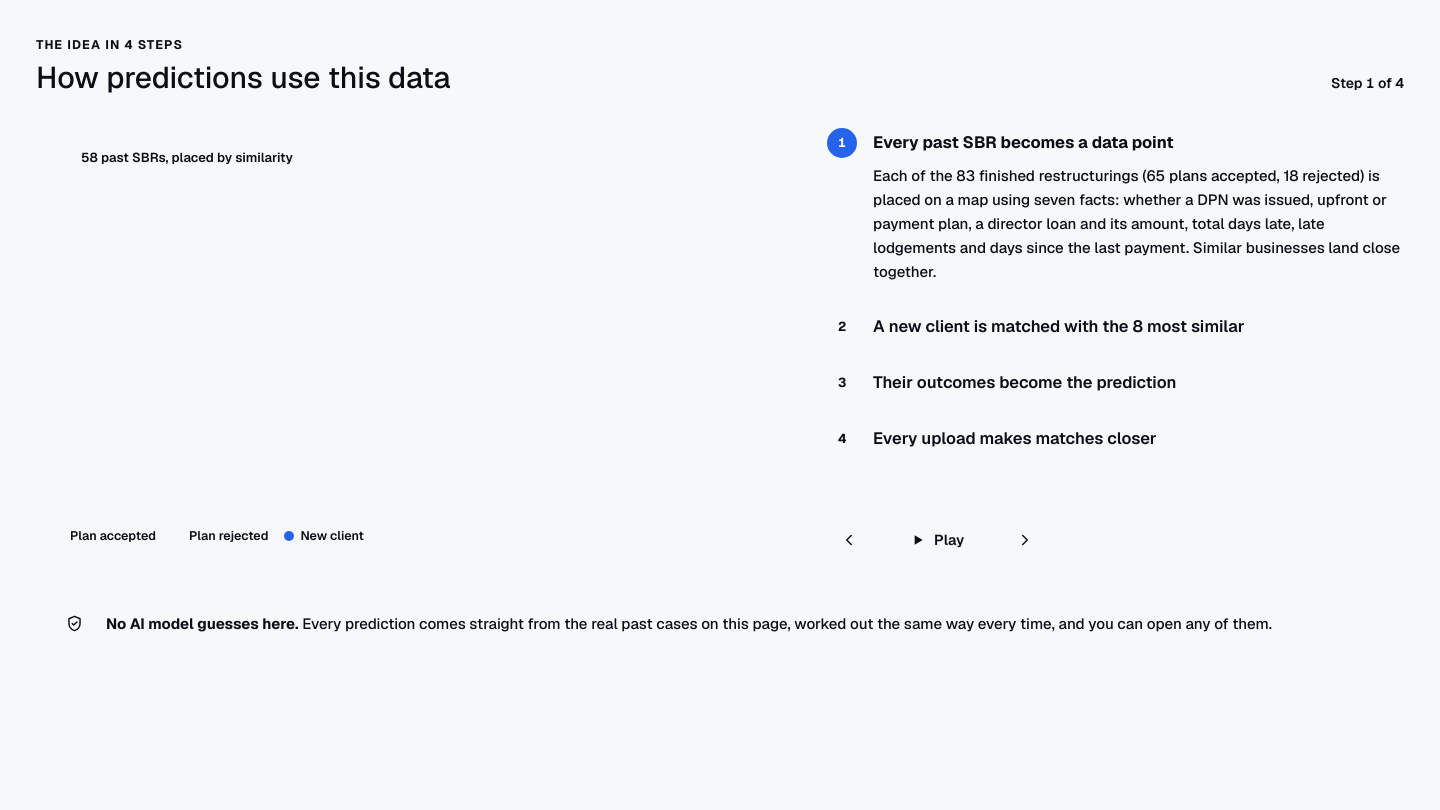
Scenario: HeroExplainer › walks through the steps with the real numbers and the real method
The width and height of the screenshot is (1440, 810).
expect the text "No AI model guesses here." is shown: met, box [106, 614, 298, 632]
expect the text "Each of the 83 finished restructurings (65 plans accepted, 18 rejected)" is shown: met, box [873, 166, 1400, 281]
Click the button named "Next step".
click(1025, 540)  # box [1003, 518, 1047, 562]
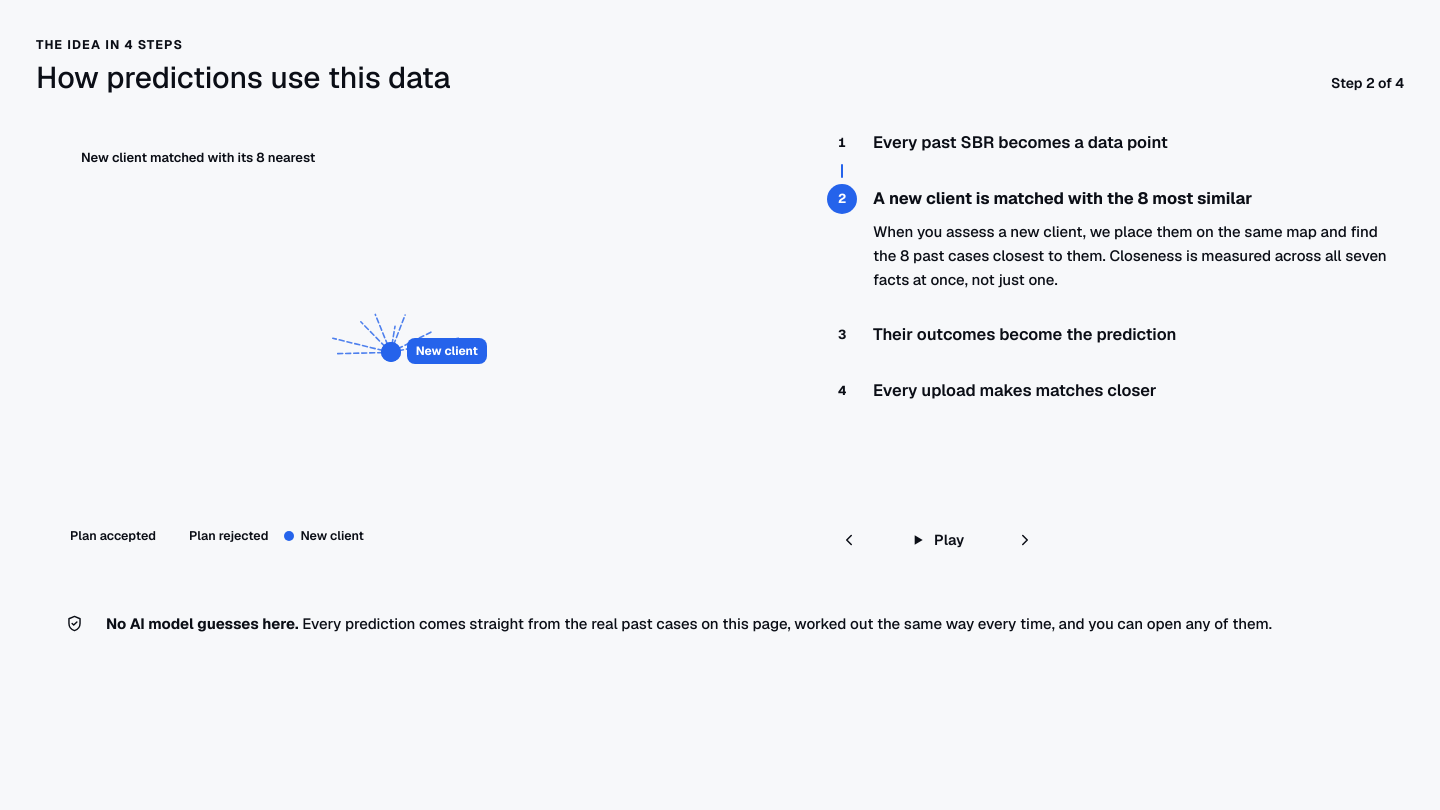
Click the button named "Next step".
click(1025, 540)  # box [1003, 518, 1047, 562]
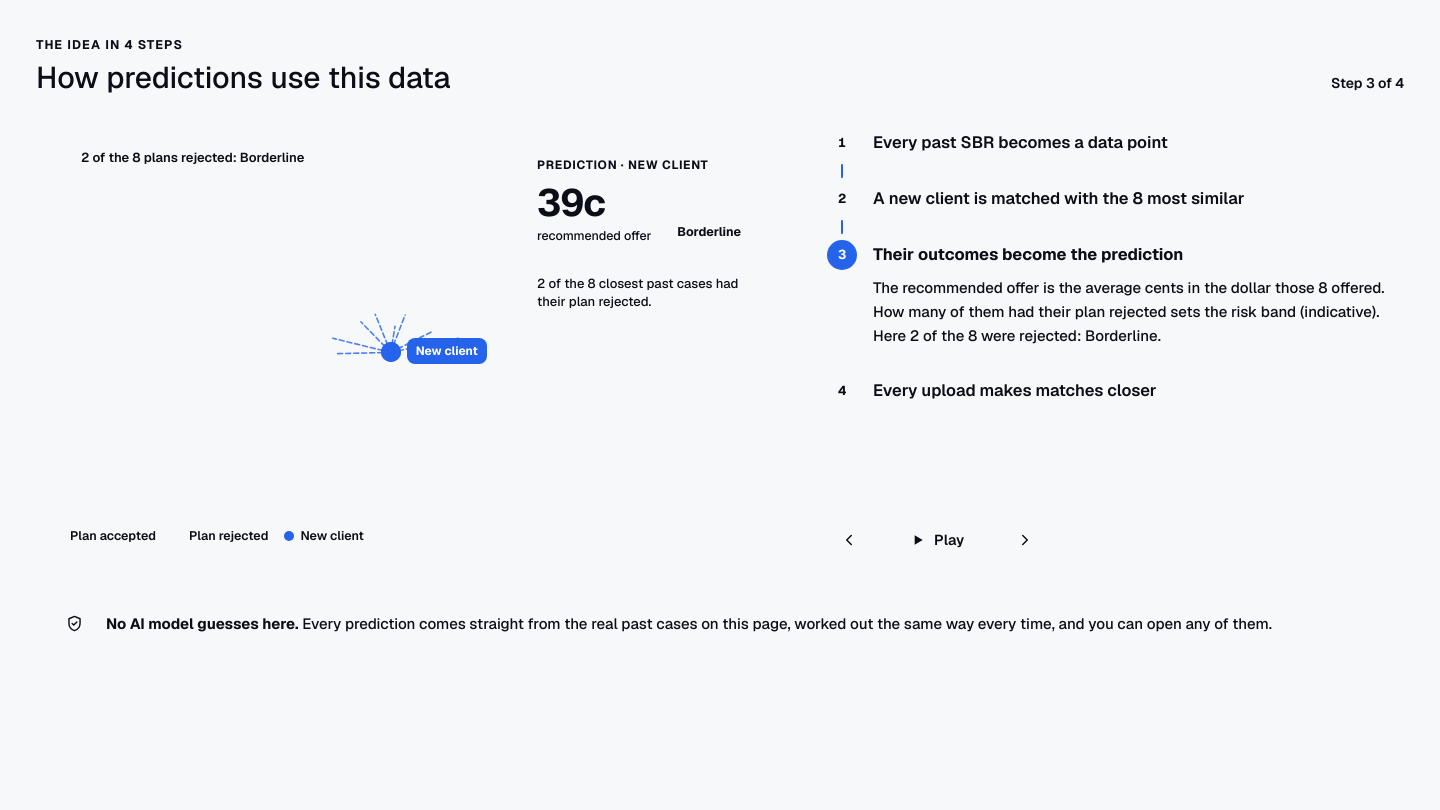
expect the text "Step 3 of 4" is shown: met, box [1331, 73, 1404, 94]
expect the text "average cents in the dollar those 8 offered" is shown: met, box [873, 278, 1384, 345]
Click the button "Every upload makes matches closer".
click(1139, 390)  # box [873, 370, 1404, 410]
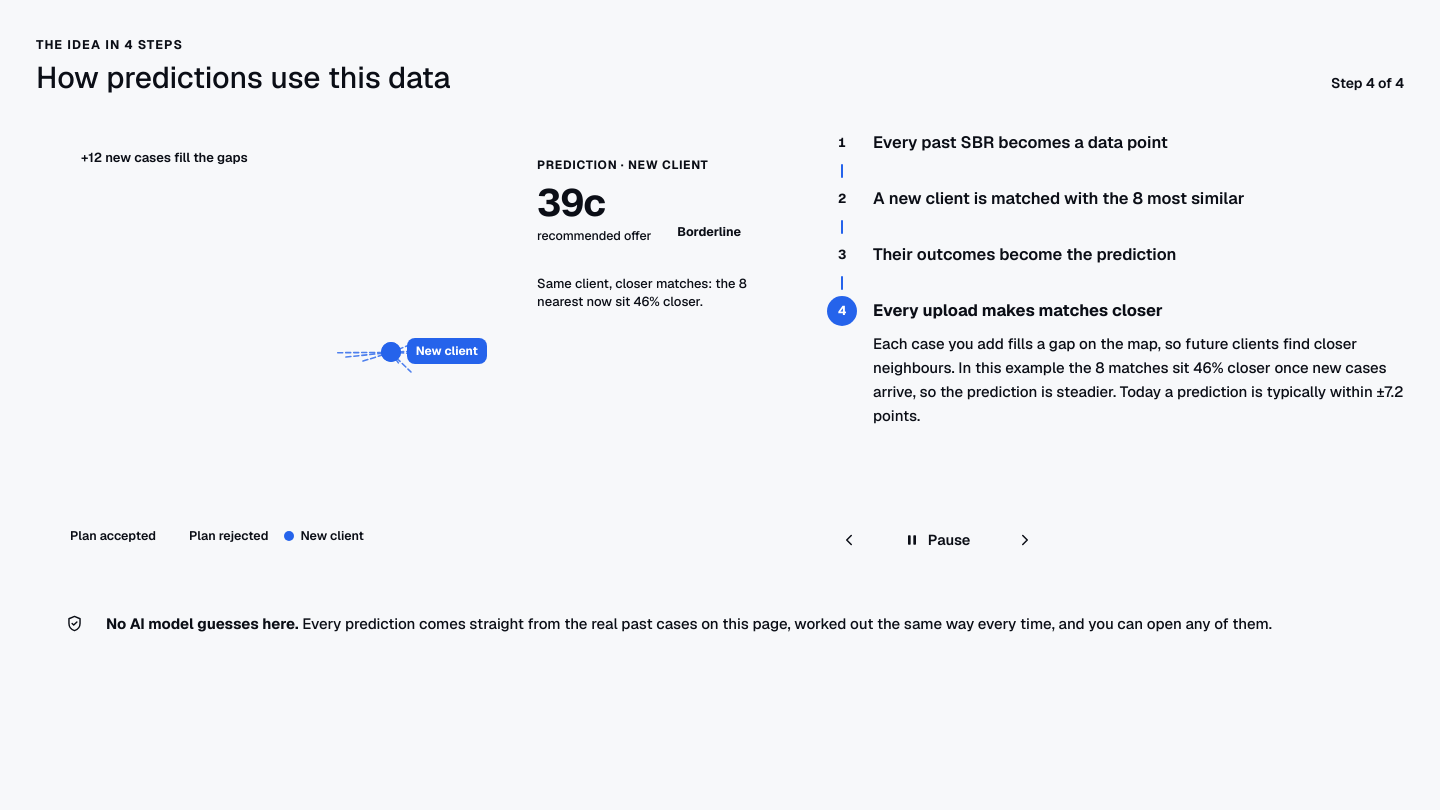
expect the text "typically within ±7.2 points" is shown: met, box [873, 334, 1403, 425]
